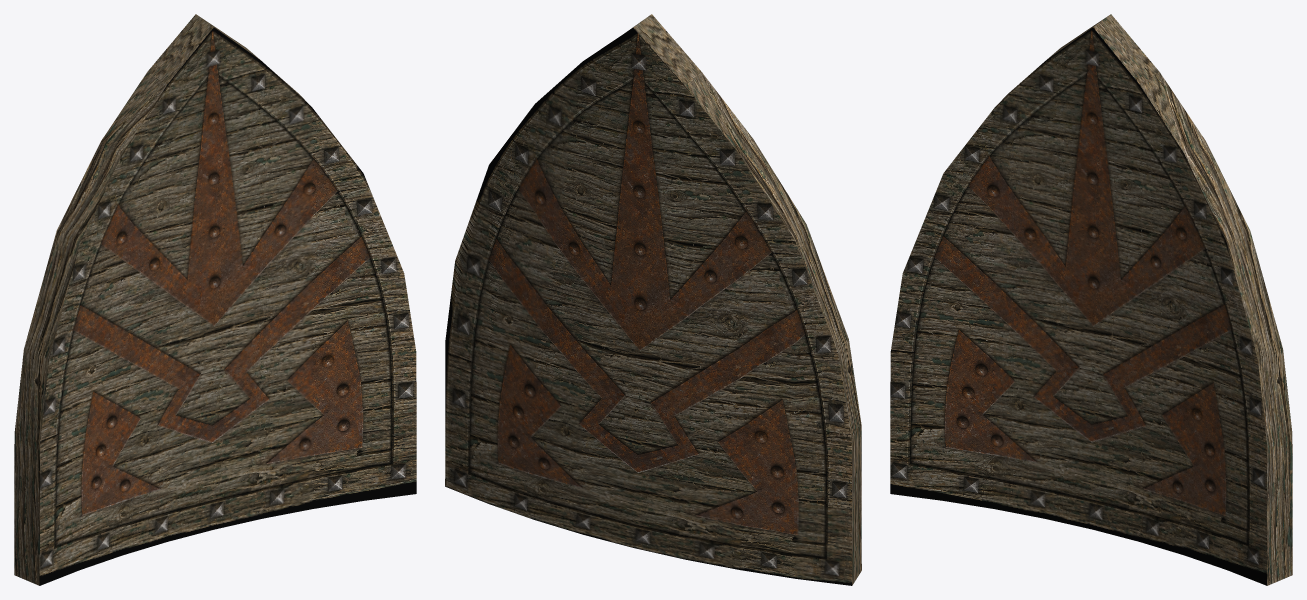
The model's file is mm9_deco_shieldrustyp90.glb.
The picture shows the model from 3 angles, left to right: view 1: azimuth 30°, elevation 25°; view 2: azimuth 150°, elevation 25°; view 3: azimuth 330°, elevation 25°; orthographic projection. The views are drawn at different scales.
Parts seen in each view (by area): view 1: Shieldrustyp90; view 2: Shieldrustyp90; view 3: Shieldrustyp90.
Part boxes in pixels (x1=…): Shieldrustyp90: x1=14, y1=14, x2=416, y2=585; Shieldrustyp90: x1=445, y1=14, x2=861, y2=585; Shieldrustyp90: x1=890, y1=14, x2=1292, y2=585.
Size of the model in its own units: 0.9033 by 1.1 by 0.1289.
1 material, 1 textured.
